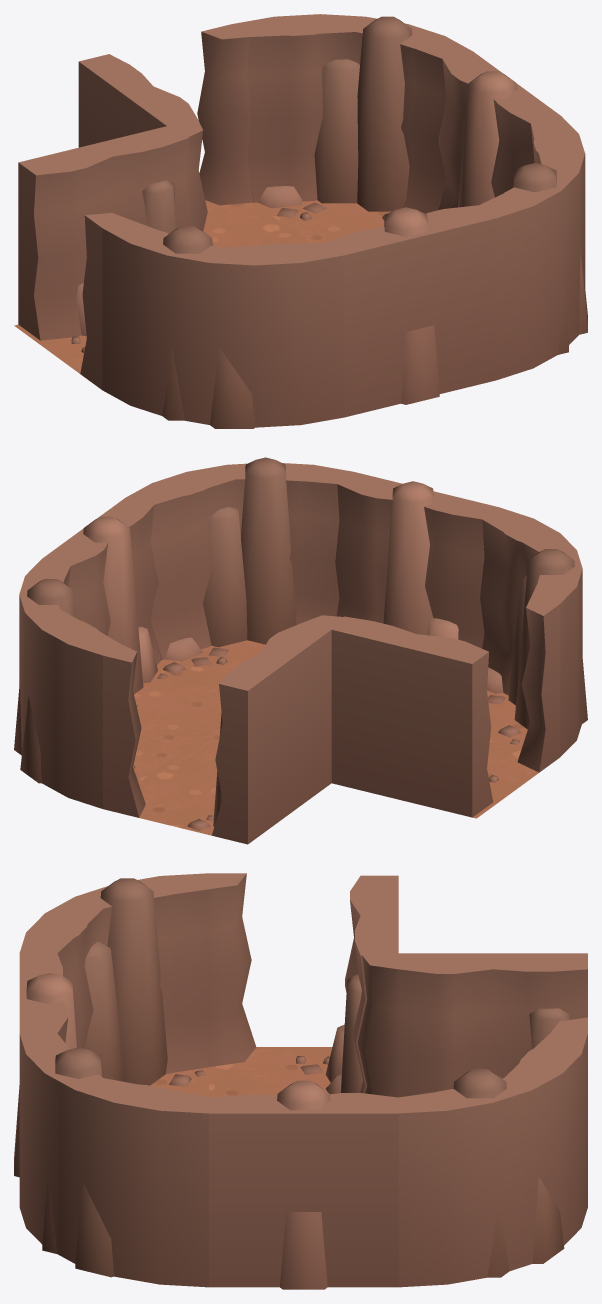
The model's file is room-corner.obj.
3 renders of one model, top to bottom at view 1: azimuth 30°, elevation 25°; view 2: azimuth 150°, elevation 25°; view 3: azimuth 270°, elevation 25°, orthographic. The views are drawn at different scales.
Visible parts, largest first — view 1: room-corner; view 2: room-corner; view 3: room-corner.
Boxes of the visible parts, x1=… form: room-corner: x1=14, y1=14, x2=587, y2=428; room-corner: x1=14, y1=457, x2=587, y2=844; room-corner: x1=14, y1=873, x2=587, y2=1289.
Size of the model in its own units: 12.12 by 4.4 by 12.12.
1 material, 1 textured.
